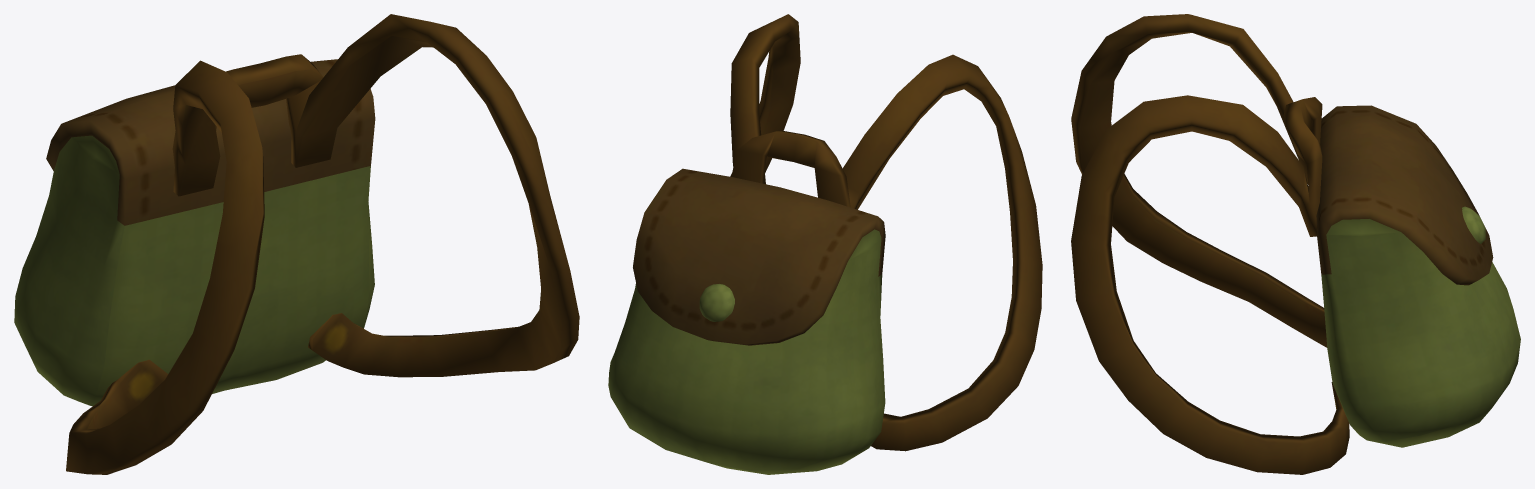
File: BagBackpackGrass0.glb
The picture shows the model from 3 angles, left to right: view 1: azimuth 30°, elevation 25°; view 2: azimuth 150°, elevation 25°; view 3: azimuth 270°, elevation 25°; orthographic projection. The views are drawn at different scales.
Visible parts, largest first — view 1: Belt__mBag; view 2: Belt__mBag; view 3: Belt__mBag.
Part boxes in pixels (x1,y1,x2,y2): Belt__mBag: (14,14,579,474); Belt__mBag: (608,14,1042,474); Belt__mBag: (1071,14,1520,474).
Size of the model in its own units: 3.81 by 3.48 by 3.93.
Materials: 1 (1 with a texture image).
